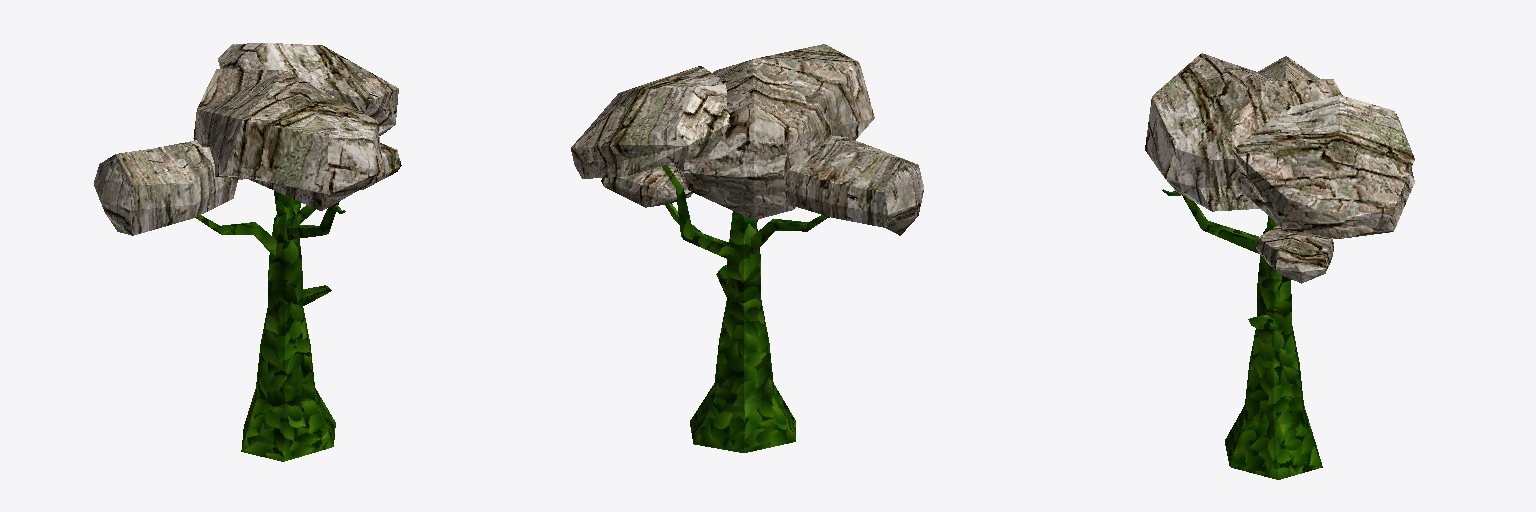
3 views of the same model, side by side, from view 1: azimuth 30°, elevation 25°; view 2: azimuth 150°, elevation 25°; view 3: azimuth 270°, elevation 25° (orthographic).
Visible parts, largest first — view 1: Tree_temp_climate_001_Mesh; view 2: Tree_temp_climate_001_Mesh; view 3: Tree_temp_climate_001_Mesh.
Boxes of the visible parts, x1=… form: Tree_temp_climate_001_Mesh: x1=94, y1=43, x2=401, y2=461; Tree_temp_climate_001_Mesh: x1=571, y1=44, x2=923, y2=452; Tree_temp_climate_001_Mesh: x1=1145, y1=53, x2=1414, y2=479.
Size of the model in its own units: 4.53 by 5.26 by 3.47.
1 materials, 1 textured.